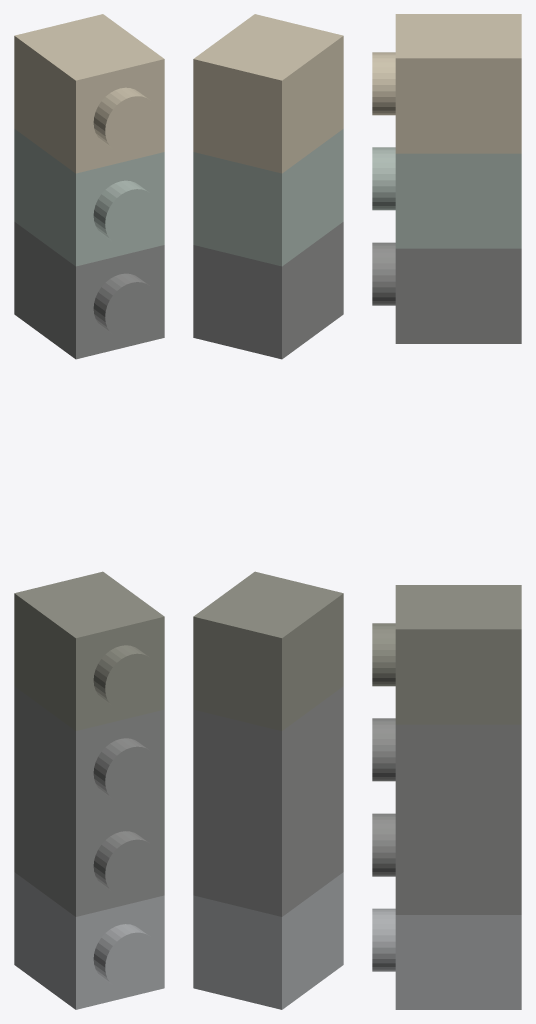
Rendered from current.glb.
The picture shows the model from 3 angles, left to right: view 1: azimuth 30°, elevation 25°; view 2: azimuth 150°, elevation 25°; view 3: azimuth 270°, elevation 25°; orthographic projection. The views are drawn at different scales.
Visible parts, largest first — view 1: world; view 2: world; view 3: world.
Part boxes in pixels (left/top/right/bottom): world: left=14, top=14, right=164, bottom=1009; world: left=193, top=14, right=343, bottom=1009; world: left=372, top=14, right=521, bottom=1009.
Bounding box in the file's own units: 8 × 80 × 11.4.
